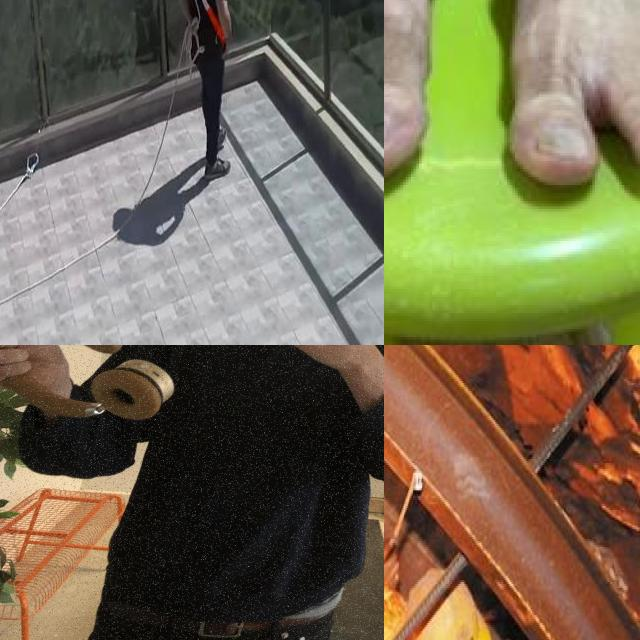Barefoots: (474, 0, 640, 213)
Harness: (0, 154, 40, 214), (201, 0, 224, 40)
hand_noglove: (384, 549, 398, 589)
head_helmet: (418, 583, 492, 640), (408, 568, 441, 613)
person: (96, 345, 384, 637)
